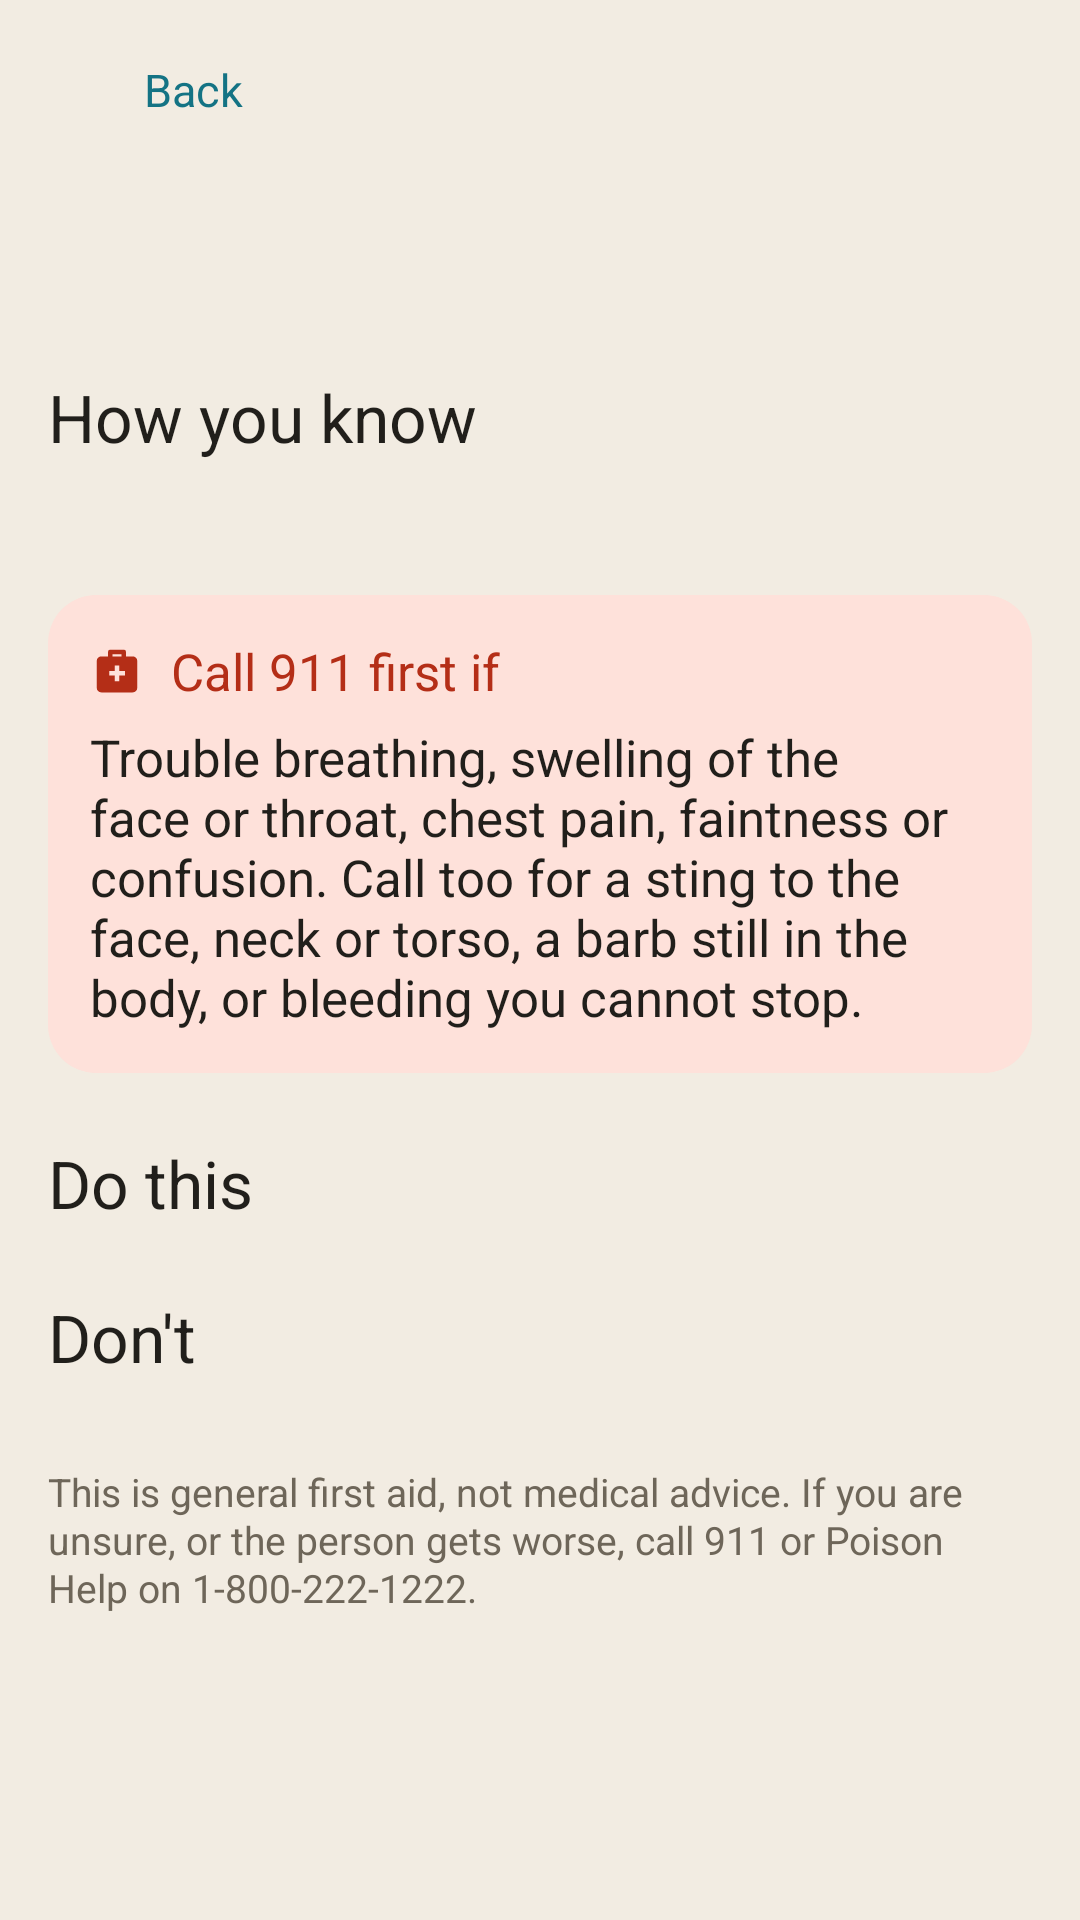

Icons on this 1080 × 1920 Android screen, each with its box as (x1, y1, x2, y2):
first aid: (96, 649, 138, 693)
